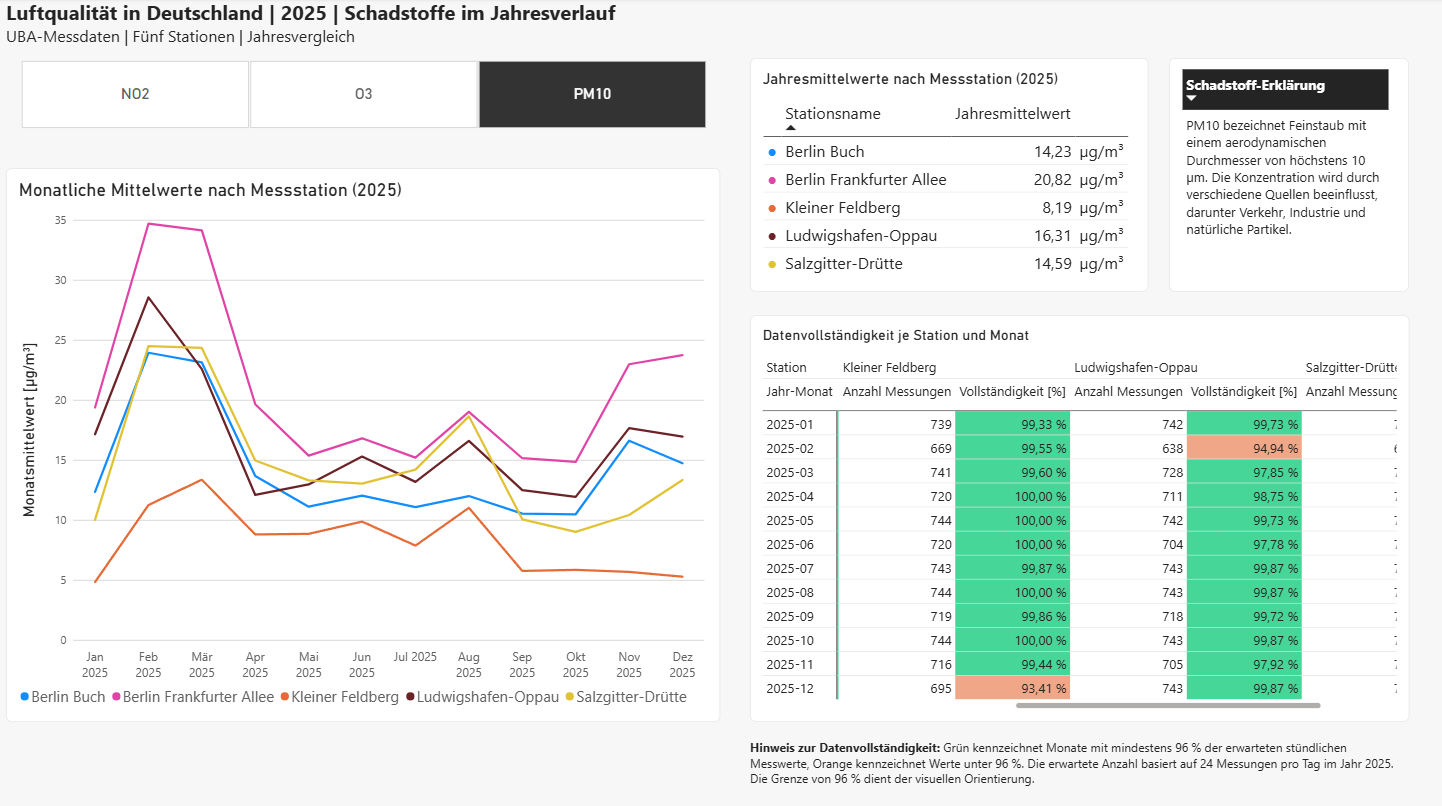

What the dashboard file says about the page in this screenshot:
{"tool":"powerbi","page":{"name":"Seite 2","canvas":[1920,1080],"ordinal":1},"visuals":[{"type":"textbox","box":[9.8,0,891.5,79.9],"z":0},{"type":"lineChart","title":"Monatliche Mittelwerte nach Messstation (2025)","fields":{"Category":["monthly_mean_values.MonthLabel"],"Series":["monthly_mean_values.station name"],"Y":["Sum(monthly_mean_values.mean value)"]},"box":[9.8,226.6,950.2,736.7],"z":1000},{"type":"slicer","fields":{"Values":["components.component_code"]},"box":[9.8,79.9,950.2,94.5],"z":2000},{"type":"tableEx","title":"Jahresmittelwerte nach Messstation (2025)","fields":{"Values":["stations.Stationspunkt","annual_mean_values.station name","annual_mean_values.mean value","components.component_unit"]},"box":[999.1,79.9,529.7,311.3],"z":3000},{"type":"pivotTable","title":"Datenvollständigkeit je Station und Monat","fields":{"Columns":["stations.station_name"],"Rows":["number_of_monthly_measurements.year-month"],"Values":["Sum(number_of_monthly_measurements.number of values)","number_of_monthly_measurements.Messdaten-Vollständigkeit %"]},"box":[998.9,421.6,876.9,541.1],"z":4000},{"type":"textbox","box":[999.1,986.1,876.9,76.6],"z":5000},{"type":"tableEx","fields":{"Values":["airquality_2025.Schadstoff-Erklärung"]},"box":[1556.5,79.9,319.5,311.3],"z":6000}]}

Visuals, with their boxes in screenshot pixels (x1, y1, x2, y2), scaled from the page's 1920x1080 canvas onto the 1442x806 screenshot:
textbox: 7:0:677:60
"Monatliche Mittelwerte nach Messstation (2025)" lineChart: 7:169:721:719
slicer - components.component_code: 7:60:721:130
"Jahresmittelwerte nach Messstation (2025)" tableEx: 750:60:1148:292
"Datenvollständigkeit je Station und Monat" pivotTable: 750:315:1409:718
textbox: 750:736:1409:793
tableEx - airquality_2025.Schadstoff-Erklärung: 1169:60:1409:292
